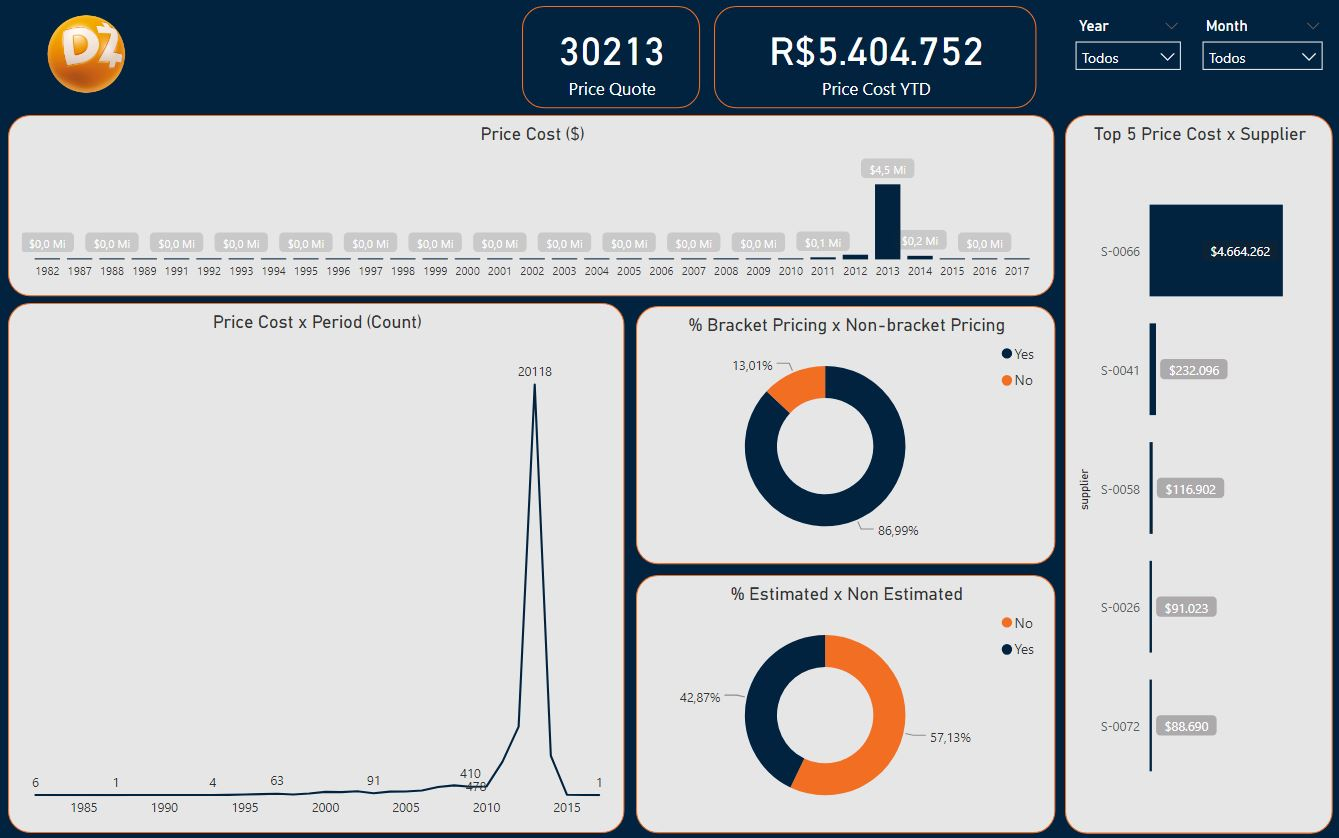

Layout of this report page (visuals, bound fields, positions):
{"tool":"powerbi","page":{"name":"Price Quote","canvas":[1280,800],"ordinal":0},"visuals":[{"type":"lineClusteredColumnComboChart","title":"Price Cost ($)","fields":{"Category":["db_dotz d_tempo.ano","db_dotz d_tempo.nomeMes"],"Y":["mensure.sumPriceQuote"]},"box":[14.6,108.9,993.1,172.2],"z":0},{"type":"donutChart","title":"% Bracket Pricing x Non-bracket Pricing","fields":{"Category":["db_dotz f_price_quote.bracket_pricing"],"Y":["CountNonNull(db_dotz f_price_quote.sk_f_price_quote)"]},"box":[609.8,290.8,397.8,245.1],"z":1000},{"type":"clusteredBarChart","title":"Top 5 Price Cost x Supplier","fields":{"Category":["db_dotz f_price_quote.supplier"],"Y":["mensure.sumPriceQuote"]},"box":[1017.4,108.9,253.9,681.8],"z":2000},{"type":"slicer","fields":{"Values":["db_dotz d_tempo.ano"]},"box":[1017.8,11.2,119.9,66.4],"z":3000},{"type":"slicer","fields":{"Values":["db_dotz d_tempo.nomeMes"]},"box":[1137.7,11.2,133.7,66.4],"z":4000},{"type":"image","box":[0,0,177,103.1],"z":5000},{"type":"lineChart","title":"Price Cost x Period (Count)","fields":{"Category":["db_dotz d_tempo.ano"],"Y":["mensure.countPriceQuote"]},"box":[14.6,287.9,584.6,502.9],"z":6000},{"type":"card","fields":{"Values":["mensure.priceCostYTD"]},"box":[683.8,5.8,306.4,97.3],"z":7000},{"type":"donutChart","title":"% Estimated x Non Estimated","fields":{"Category":["db_dotz f_price_quote.@verifAnnual"],"Y":["CountNonNull(db_dotz f_price_quote.sk_f_price_quote)"]},"box":[609.8,545.7,397.8,245.1],"z":8000},{"type":"card","fields":{"Values":["mensure.countPriceQuote"]},"box":[501.9,5.8,169.2,97.3],"z":9000}]}

Visuals, with their boxes in screenshot pixels (x1, y1, x2, y2), scaled from the page's 1280x800 canvas onto the 1339x838 screenshot:
"Price Cost ($)" lineClusteredColumnComboChart: x1=15, y1=114, x2=1054, y2=294
"% Bracket Pricing x Non-bracket Pricing" donutChart: x1=638, y1=305, x2=1054, y2=561
"Top 5 Price Cost x Supplier" clusteredBarChart: x1=1064, y1=114, x2=1330, y2=828
slicer - db_dotz d_tempo.ano: x1=1065, y1=12, x2=1190, y2=81
slicer - db_dotz d_tempo.nomeMes: x1=1190, y1=12, x2=1330, y2=81
image: x1=0, y1=0, x2=185, y2=108
"Price Cost x Period (Count)" lineChart: x1=15, y1=302, x2=627, y2=828
card - mensure.priceCostYTD: x1=715, y1=6, x2=1036, y2=108
"% Estimated x Non Estimated" donutChart: x1=638, y1=572, x2=1054, y2=828
card - mensure.countPriceQuote: x1=525, y1=6, x2=702, y2=108
